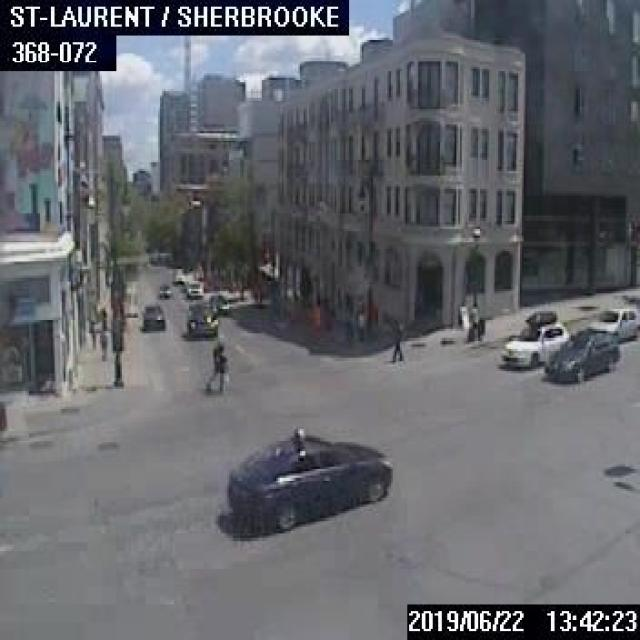pedestrian: (202, 342, 225, 389), (389, 318, 402, 360), (356, 309, 364, 342)
vehicle: (224, 427, 391, 531), (543, 328, 617, 381), (501, 309, 569, 365), (584, 306, 638, 340), (187, 302, 216, 336), (140, 304, 164, 329), (206, 292, 227, 313), (185, 278, 202, 296), (171, 265, 183, 282), (157, 283, 170, 296)
